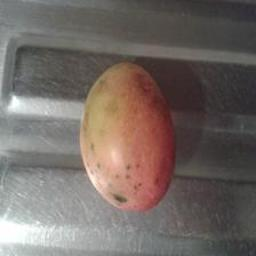Mango Semifresh: (69, 50, 187, 215)
